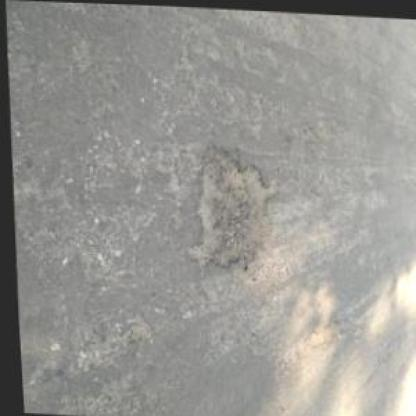pothole: (178, 136, 278, 277), (121, 308, 148, 342)
